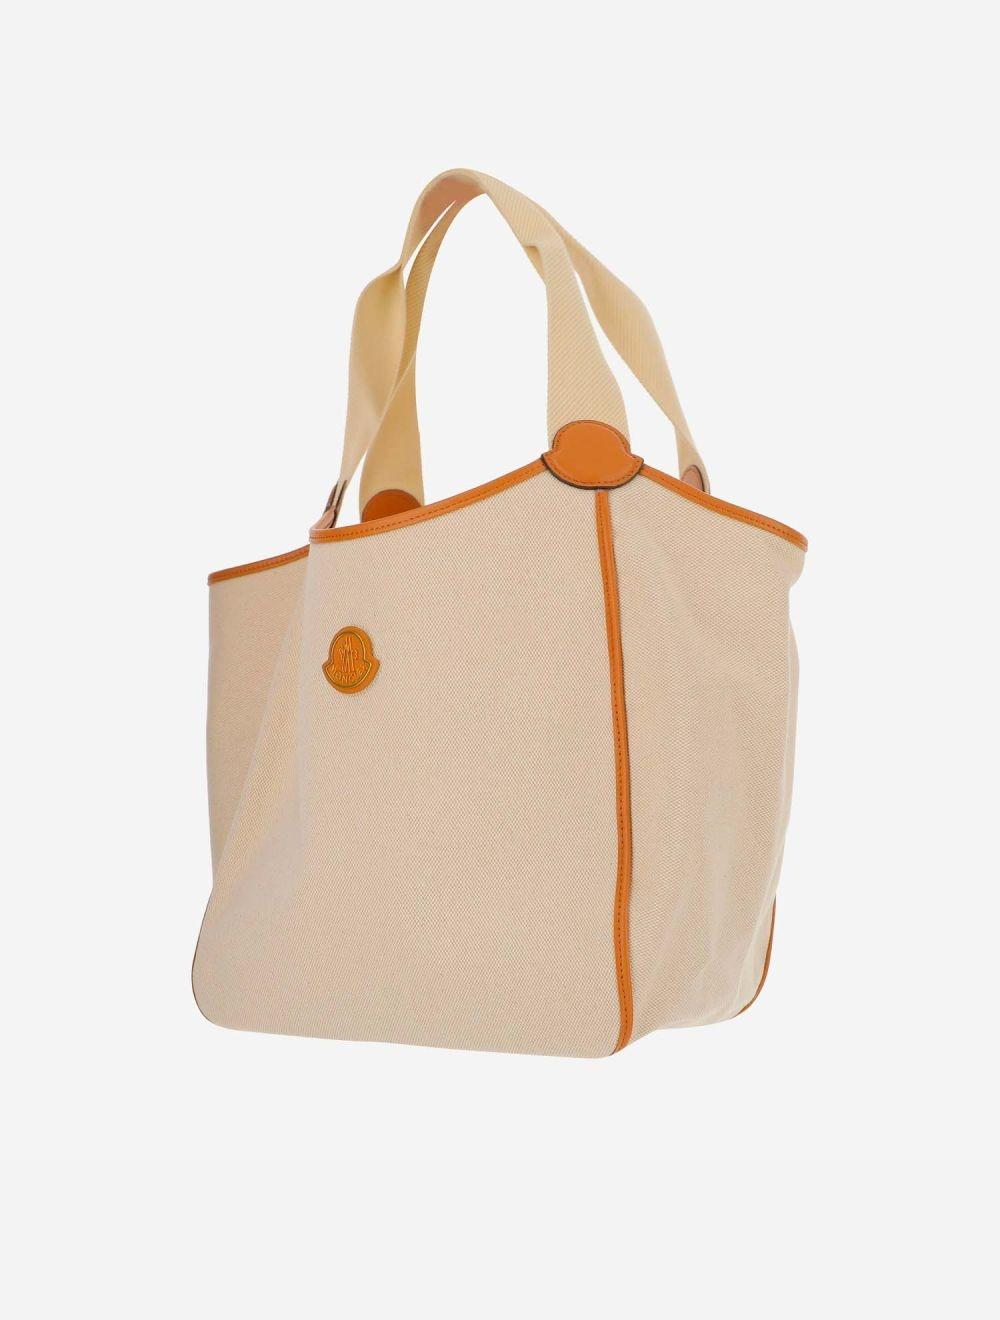MONCLER: (320, 625, 380, 694)
